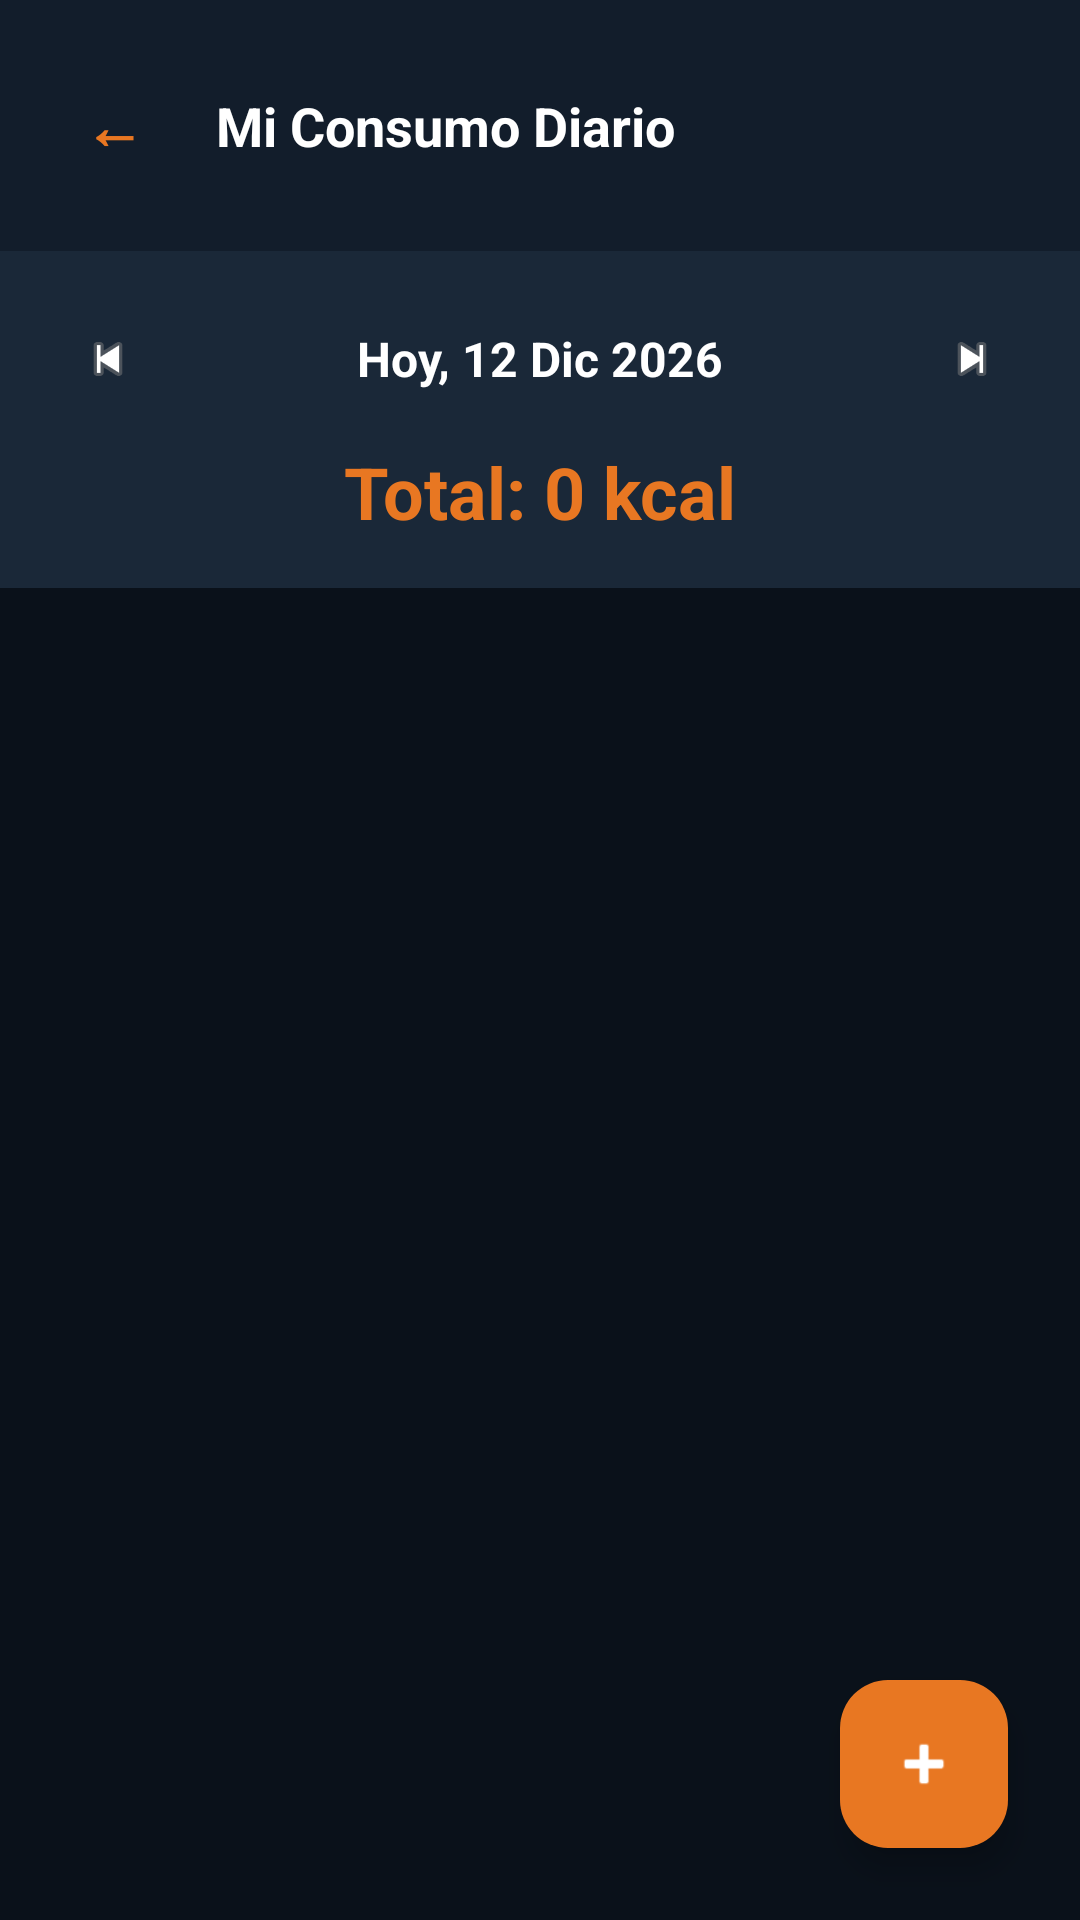

Where icons sit on this 1080x1920 app screen, as (x1, y1, x2, y2):
add: (840, 1680, 1008, 1848)
next: (958, 342, 986, 376)
previous: (94, 342, 122, 376)
